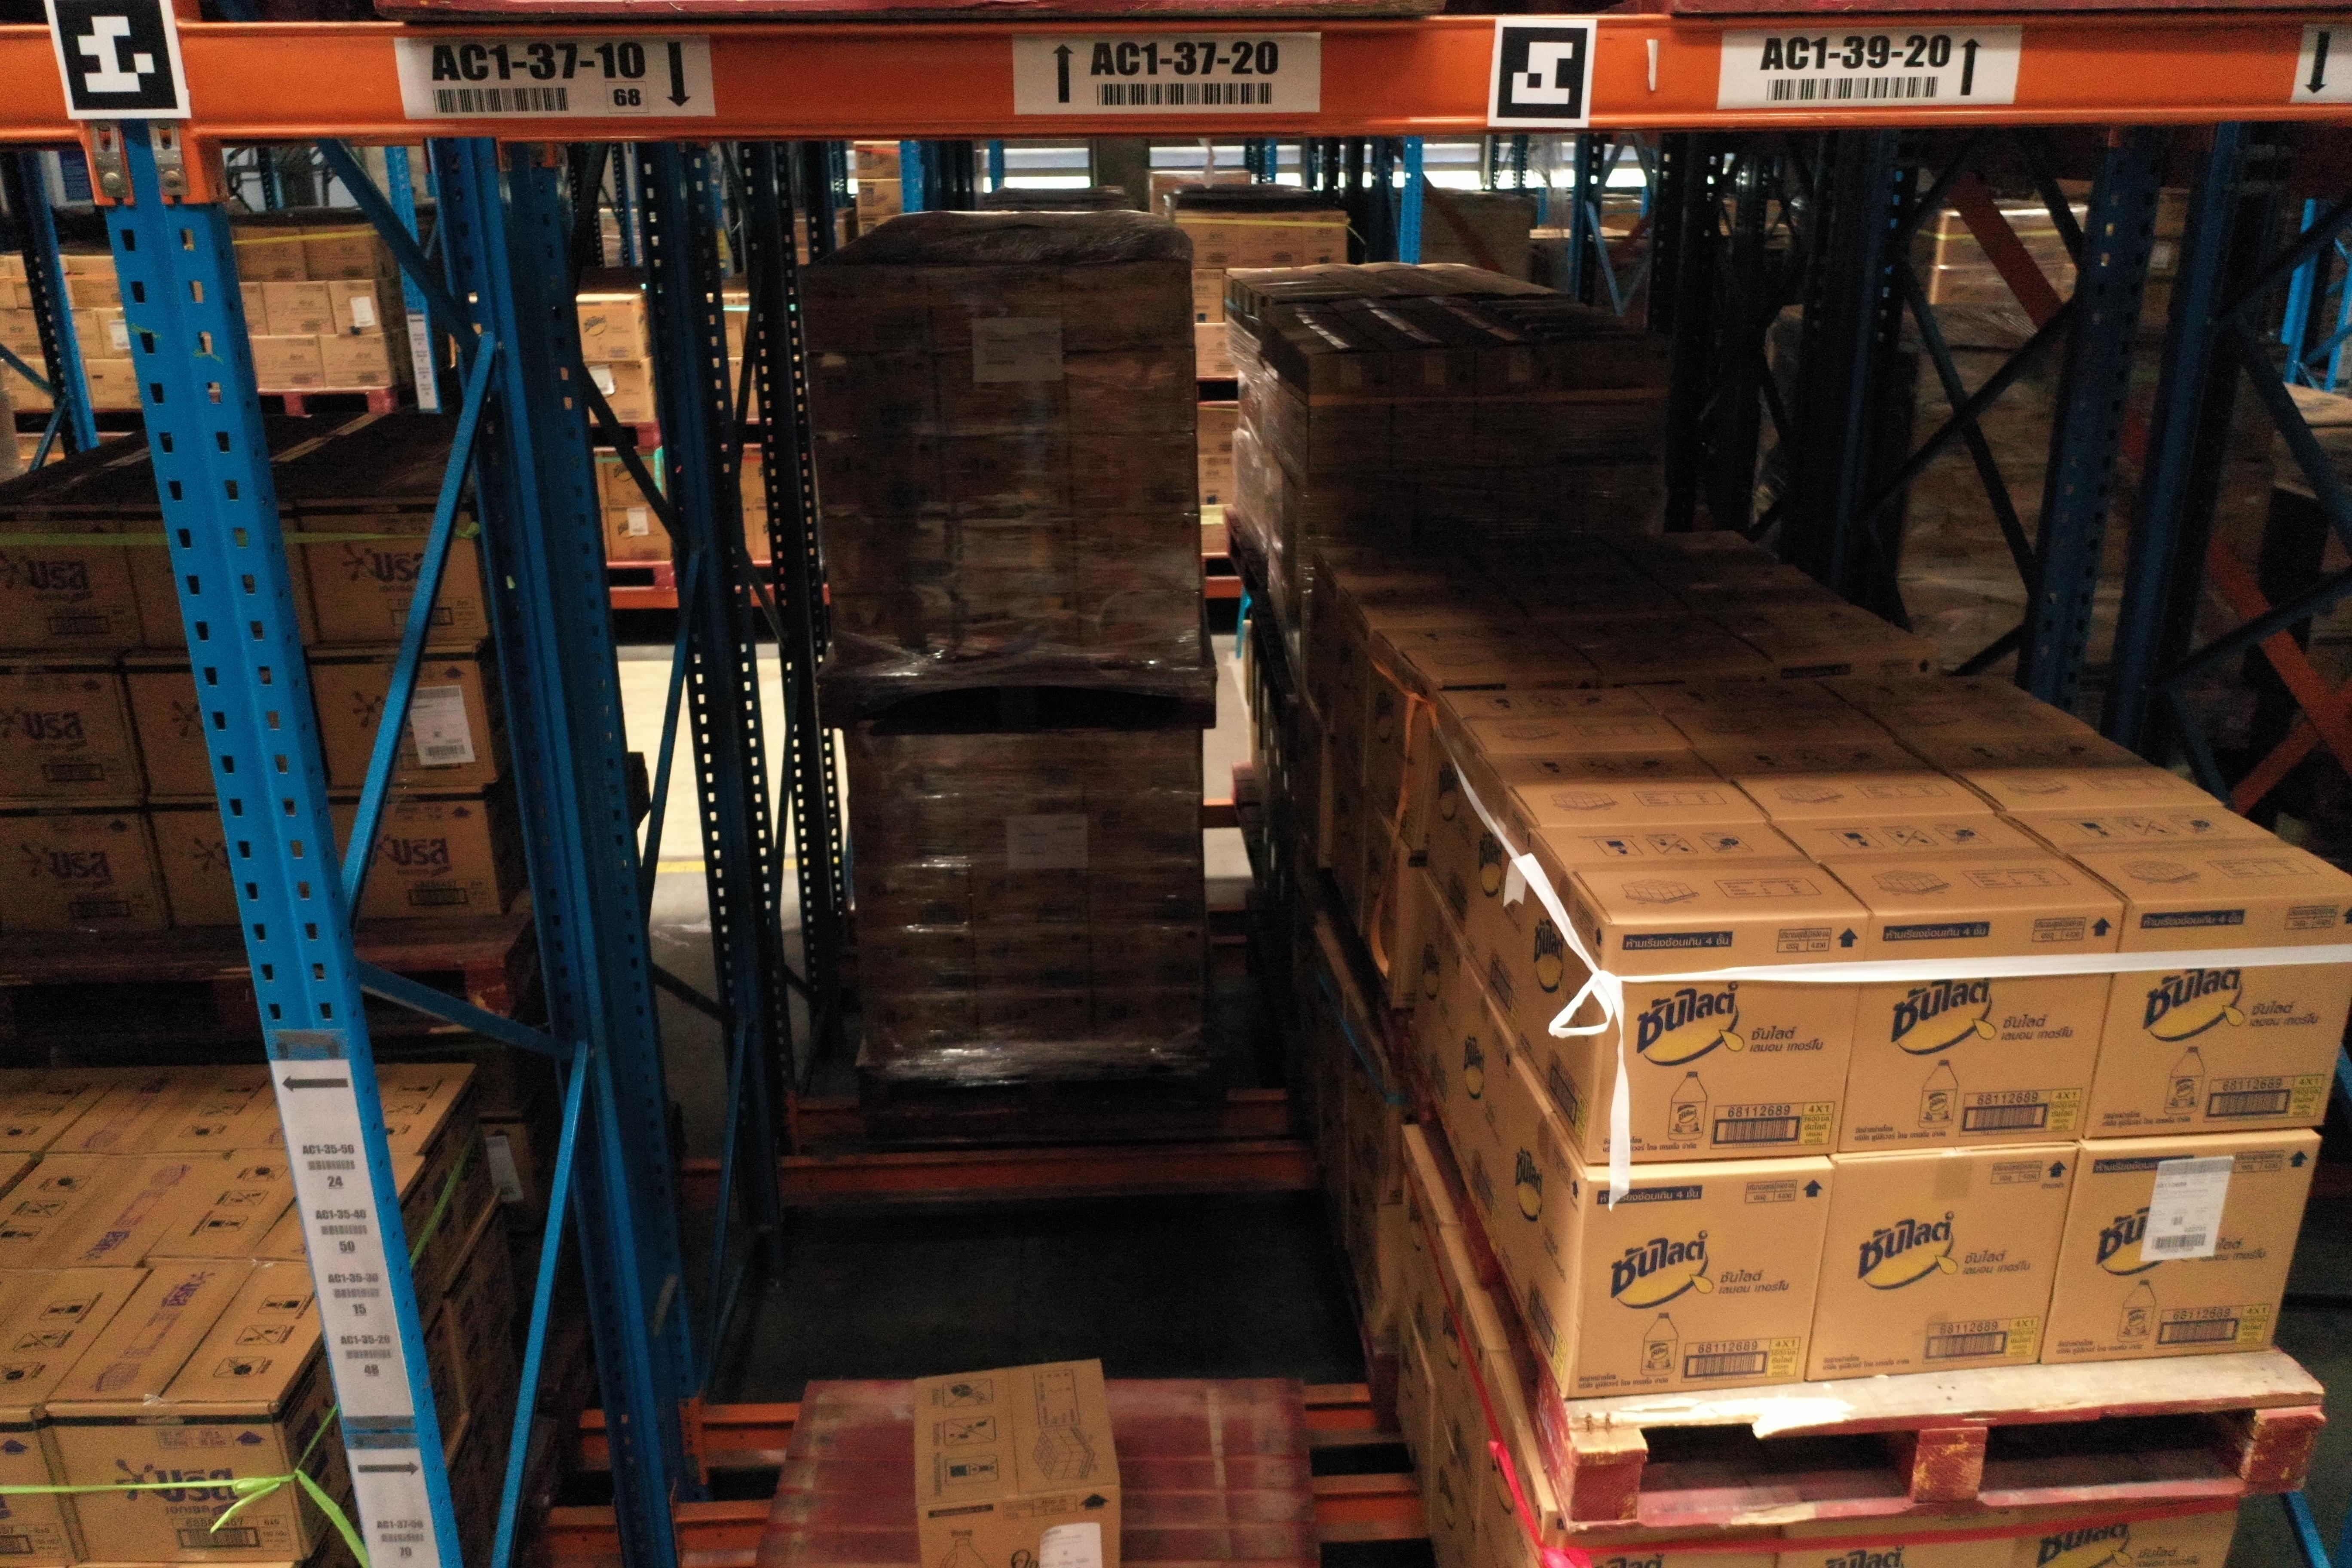-: (1585, 912, 1872, 1169), (1839, 903, 2128, 1157), (2081, 892, 2352, 1143), (2042, 1132, 2320, 1365), (1806, 1146, 2079, 1379), (1566, 1167, 1837, 1398), (44, 1396, 308, 1563), (915, 1486, 1122, 1568), (2016, 1500, 2243, 1568), (1778, 1508, 2026, 1568), (0, 1403, 84, 1568), (1536, 1515, 1783, 1568)
2: (1556, 339, 1676, 469), (927, 262, 1064, 353), (1059, 262, 1197, 350), (798, 266, 933, 355), (931, 352, 1067, 439), (1064, 346, 1197, 436), (805, 353, 940, 441), (940, 434, 1074, 518), (1069, 432, 1199, 516), (1389, 350, 1477, 474), (812, 439, 947, 520), (1473, 345, 1559, 471), (1307, 350, 1391, 476), (1073, 514, 1202, 593), (821, 518, 950, 595), (947, 516, 1076, 593), (952, 593, 1081, 663), (1295, 474, 1416, 548), (833, 593, 957, 663), (1076, 593, 1199, 663), (964, 796, 1088, 864), (842, 733, 968, 800), (850, 864, 973, 933), (975, 992, 1097, 1059), (863, 994, 982, 1062), (847, 800, 968, 866), (962, 733, 1085, 798), (968, 864, 1090, 929), (1087, 863, 1206, 929), (1085, 796, 1200, 864), (971, 929, 1092, 992), (1083, 731, 1200, 796), (1092, 989, 1206, 1055), (857, 931, 976, 994), (1088, 927, 1206, 990), (1414, 472, 1500, 546), (1496, 469, 1582, 535), (1580, 467, 1664, 534)
box: (119, 647, 322, 801), (304, 644, 499, 789), (121, 509, 313, 651), (296, 506, 490, 640), (320, 793, 500, 917), (0, 801, 171, 931), (0, 653, 147, 801), (149, 803, 329, 924), (0, 511, 149, 653)
